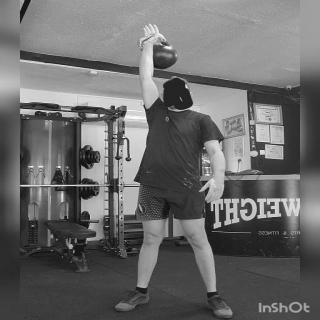kettlebell: (134, 33, 186, 71)
